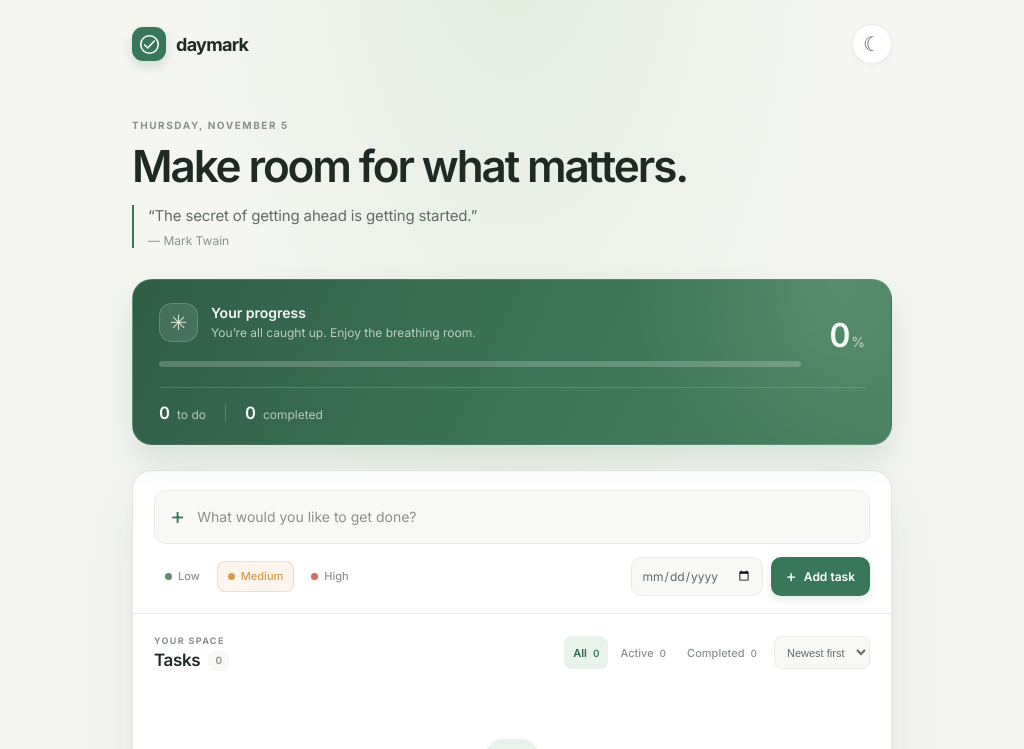
Scenario: flags overdue tasks until they are completed
Type "Pay invoice" into the field named "New task" at (526, 517), box [197,493,854,540]
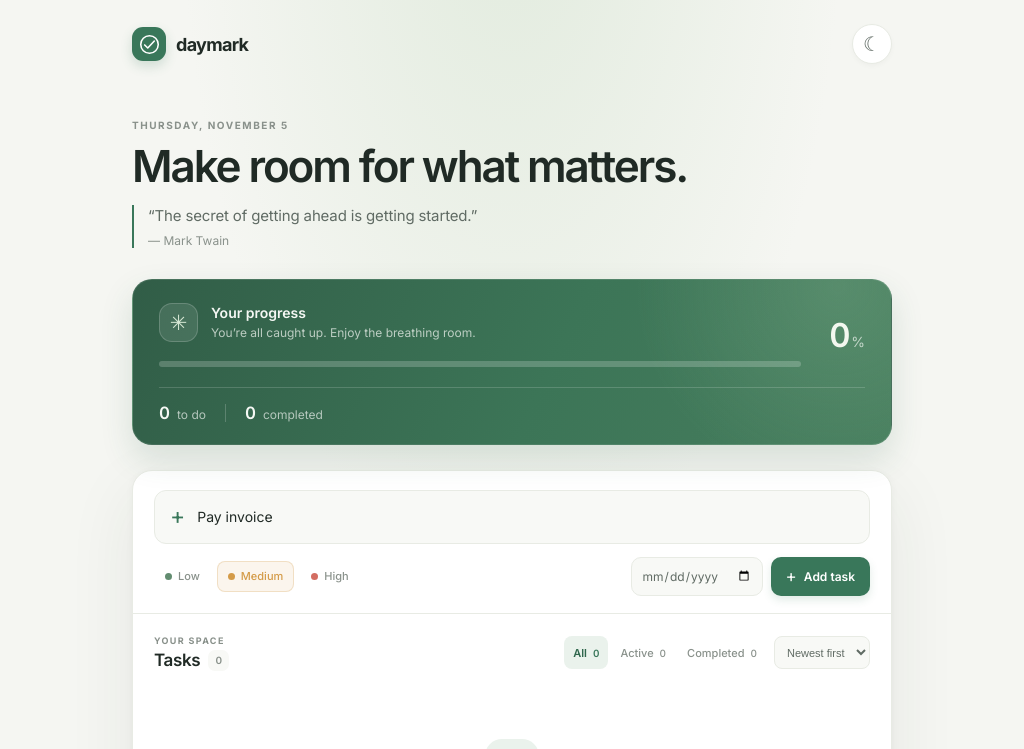
Type "2000-01-01" into the date field named "Due date" at (697, 576), box [631,557,763,596]
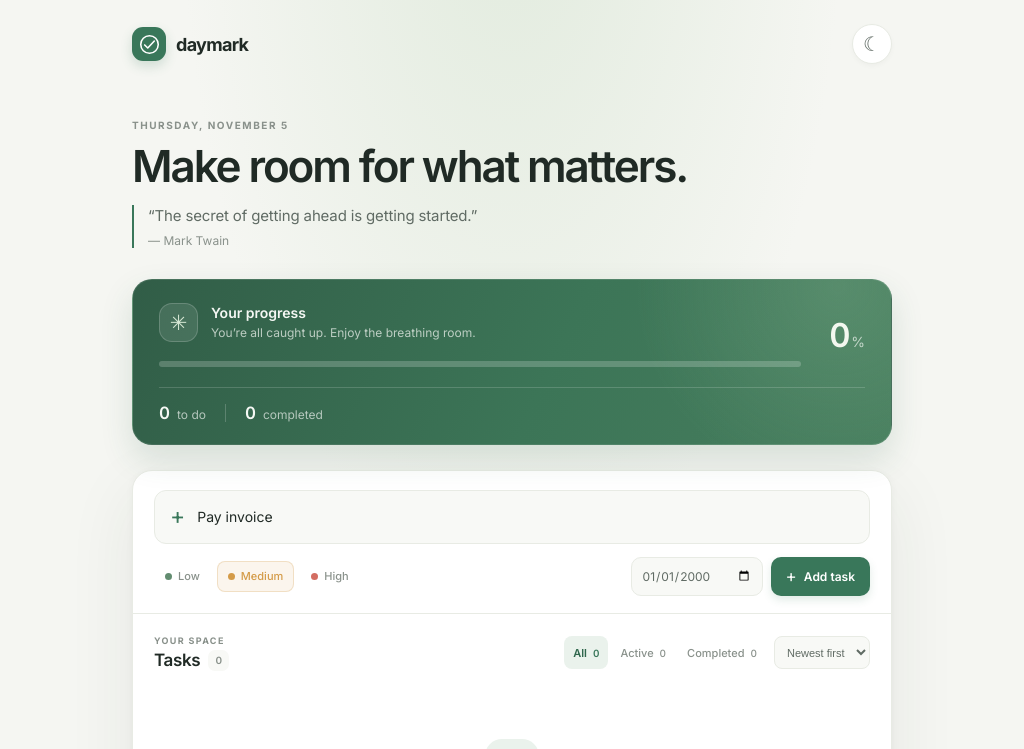
Click the button "+ Add task" at (820, 576), box [771,557,870,596]
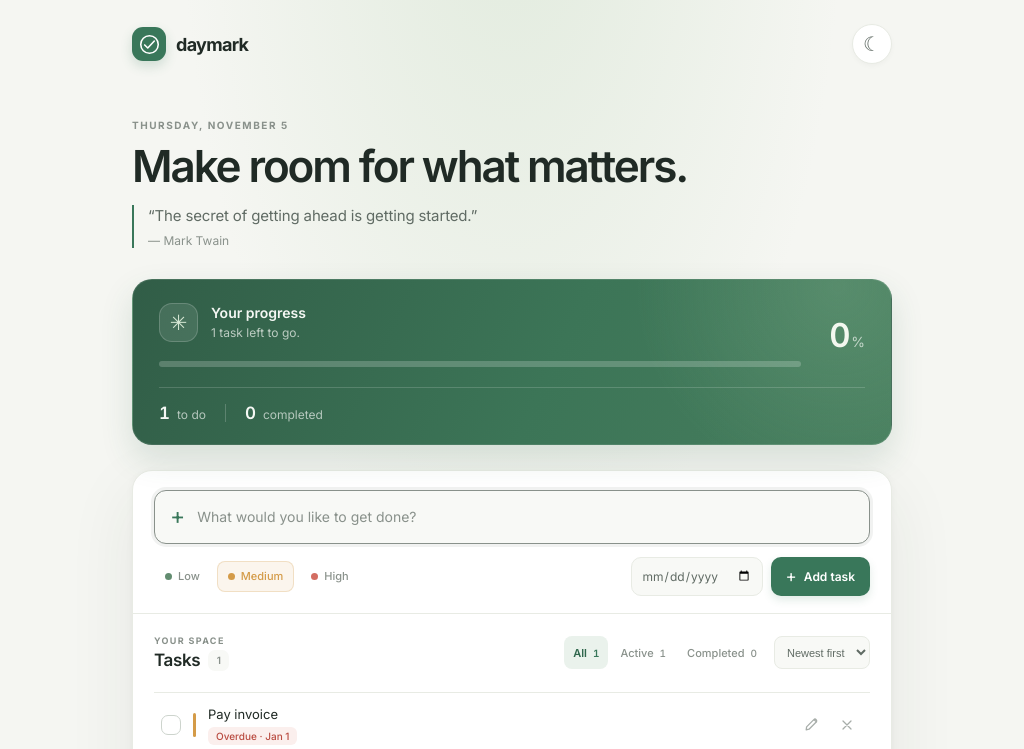
Result: the text "Overdue · Jan 1" is shown at [208,727,298,745]
Click the button named "Complete Pay invoice" at (171, 725), box [161,715,181,735]
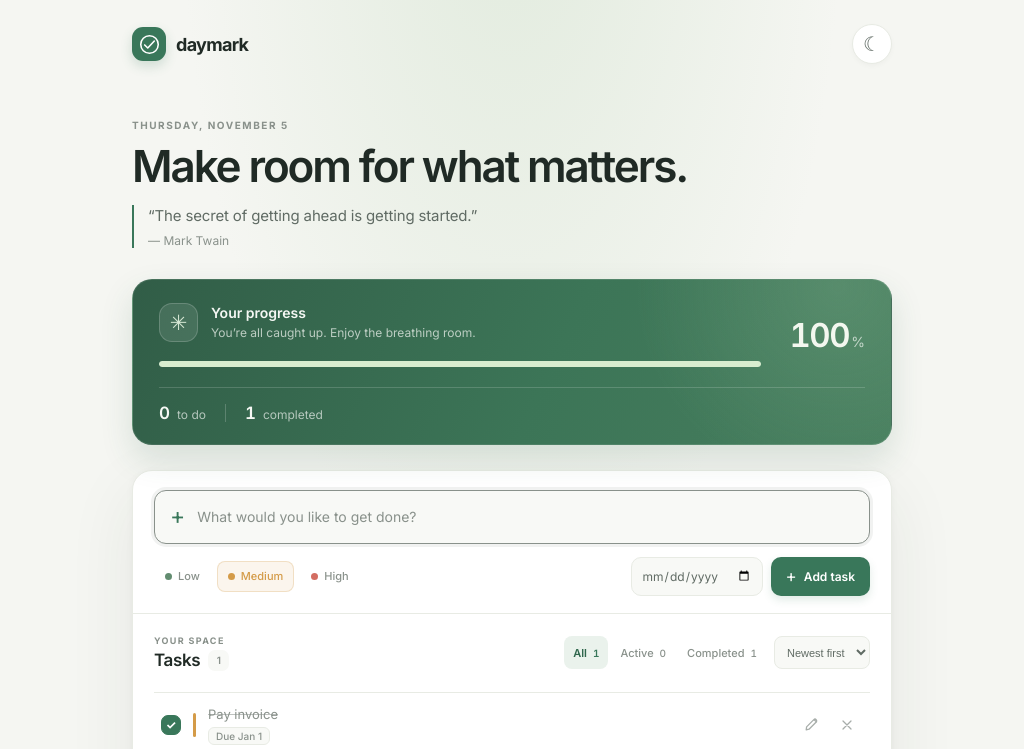
Result: the text "Overdue" is gone
